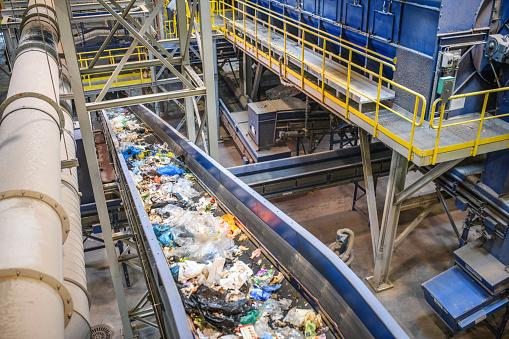garbage: (110, 107, 323, 339)
